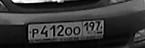license-plateSW: (28, 19, 105, 40)
